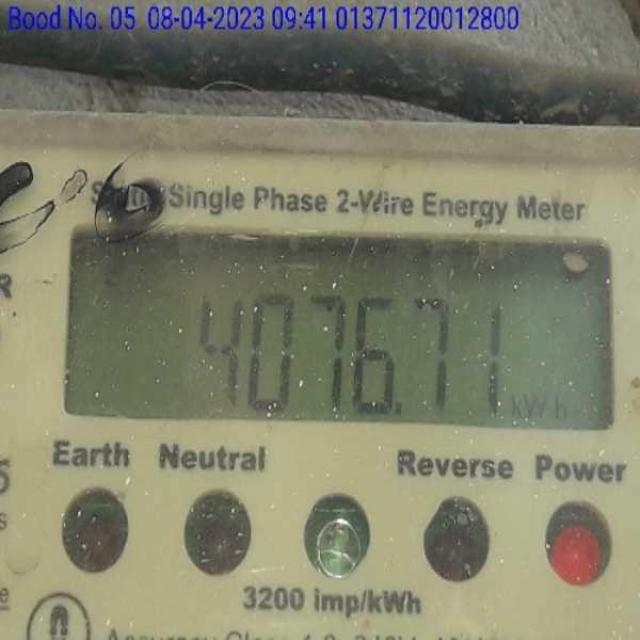0: (248, 287, 305, 417)
1: (469, 296, 514, 422)
4: (192, 286, 247, 416)
6: (354, 288, 400, 420)
7: (406, 291, 465, 415), (305, 286, 352, 416)
Digital meter: (68, 235, 609, 432)
point: (392, 402, 407, 416)
